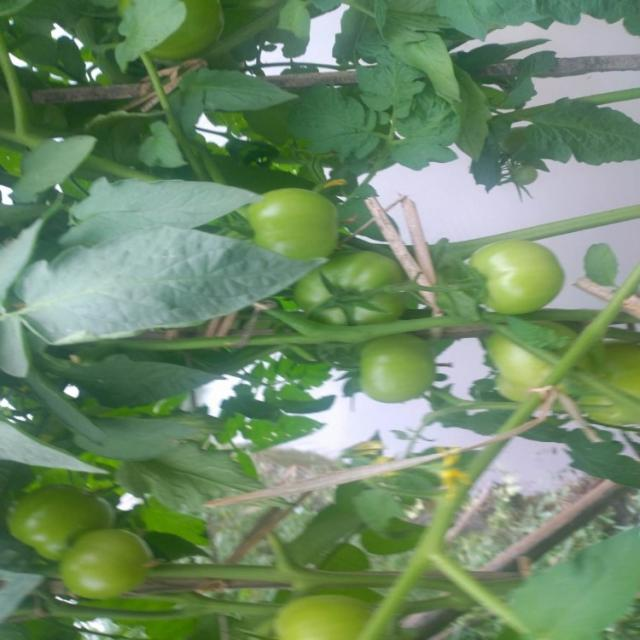tomato: (286, 249, 409, 331), (484, 321, 584, 411), (247, 189, 346, 277), (464, 239, 565, 321), (8, 483, 110, 554), (358, 326, 442, 410), (57, 531, 151, 598), (578, 335, 640, 429), (266, 592, 383, 640), (144, 1, 222, 58)
